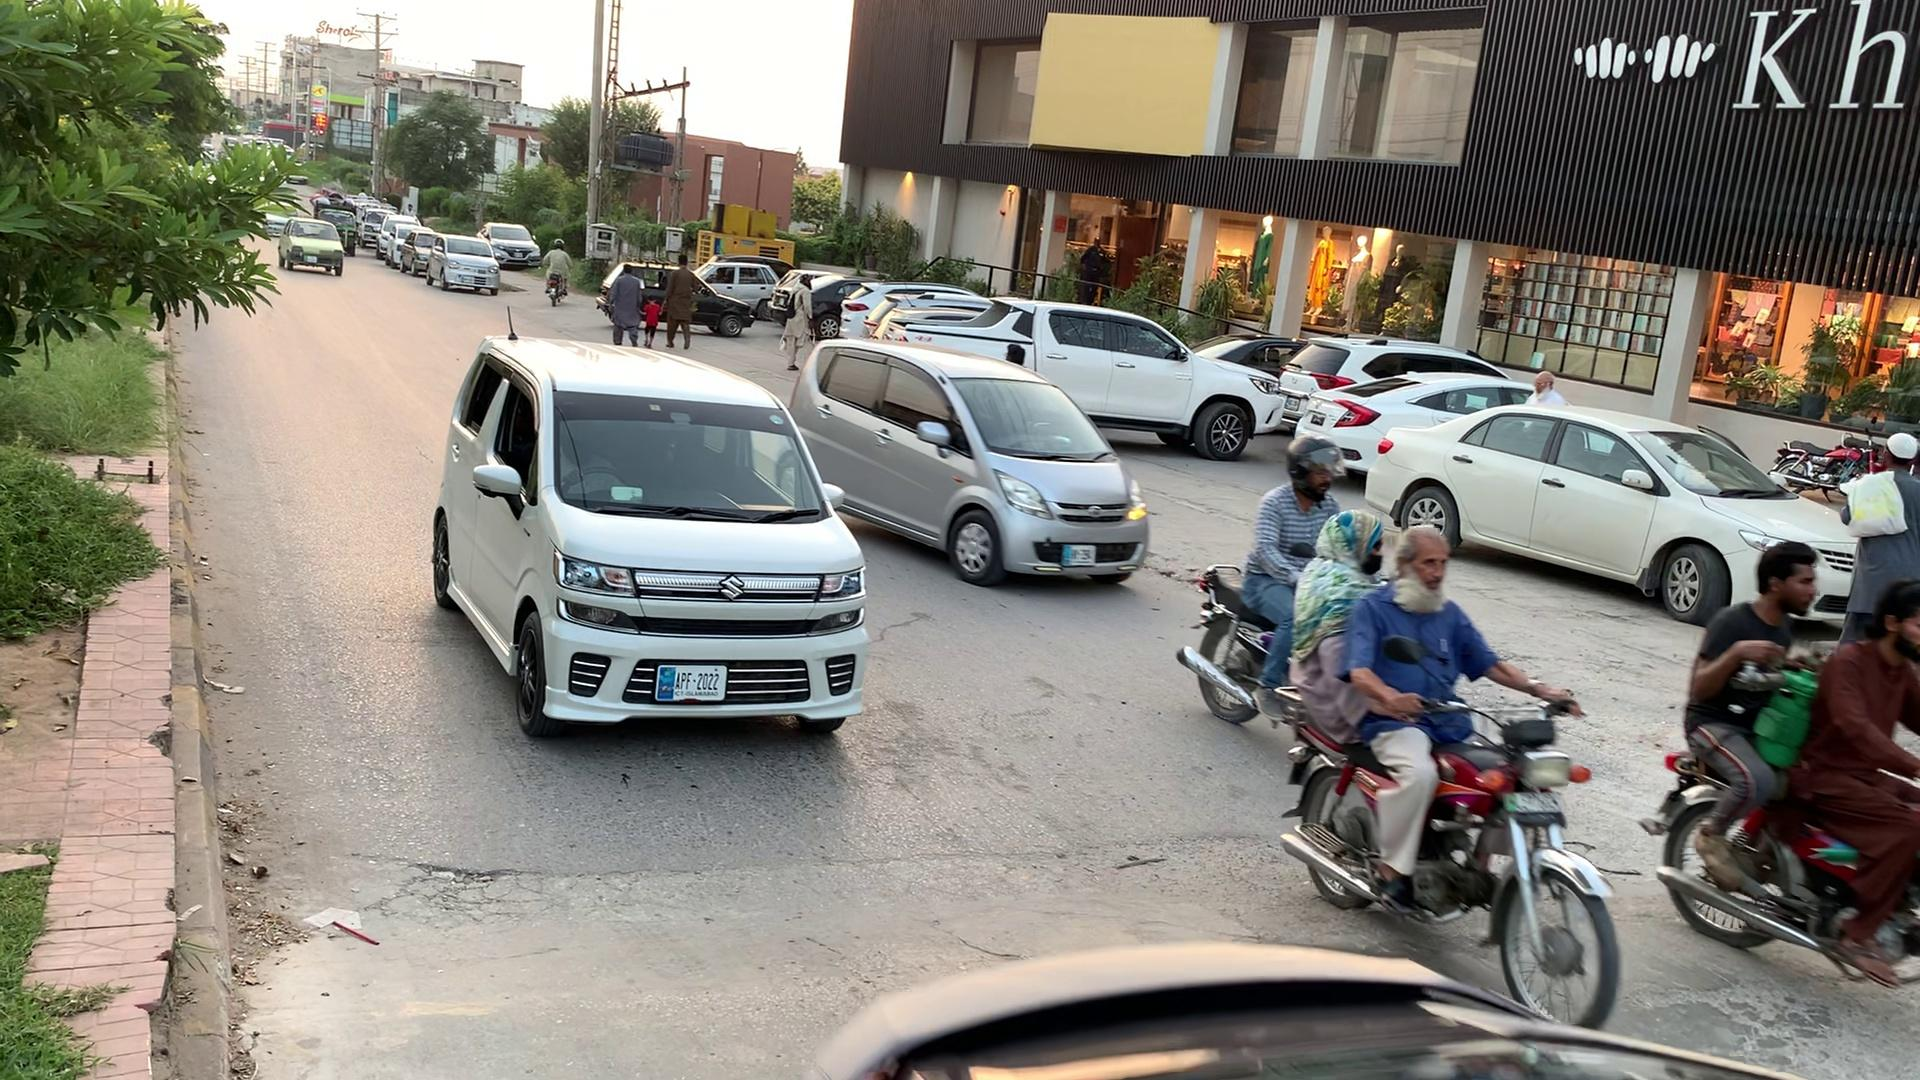windshield: (554, 384, 840, 520), (938, 375, 1118, 463)
